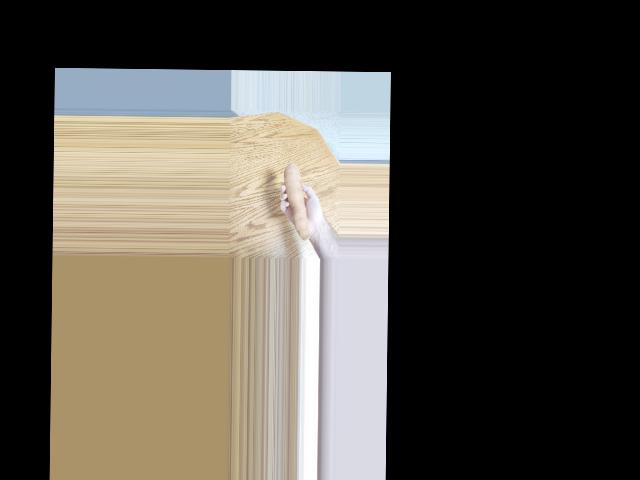sweet_potato: (279, 159, 313, 236)
